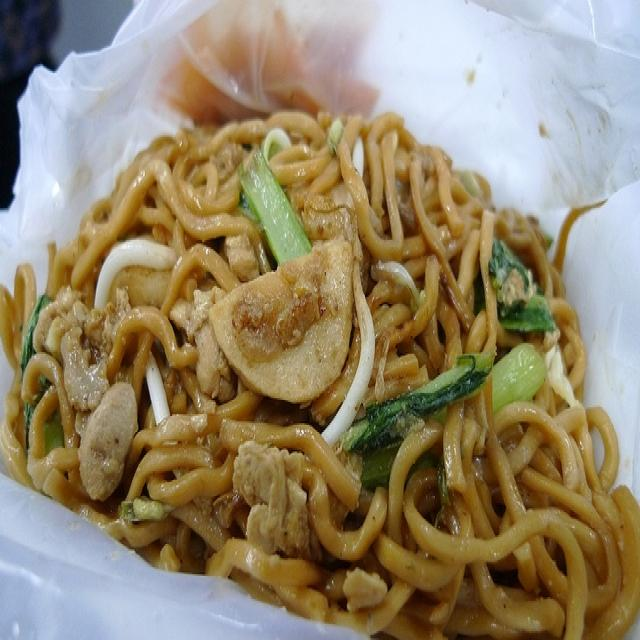面条主食: (16, 43, 628, 629)
